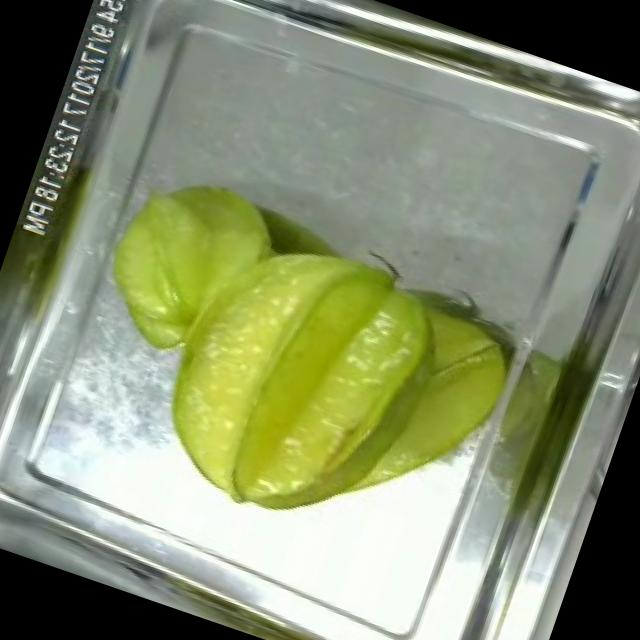fruit: (119, 190, 457, 560), (76, 148, 310, 390)
